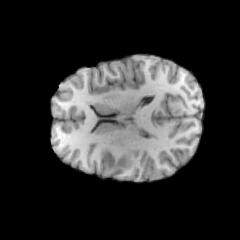glioma: (97, 144, 131, 174)
